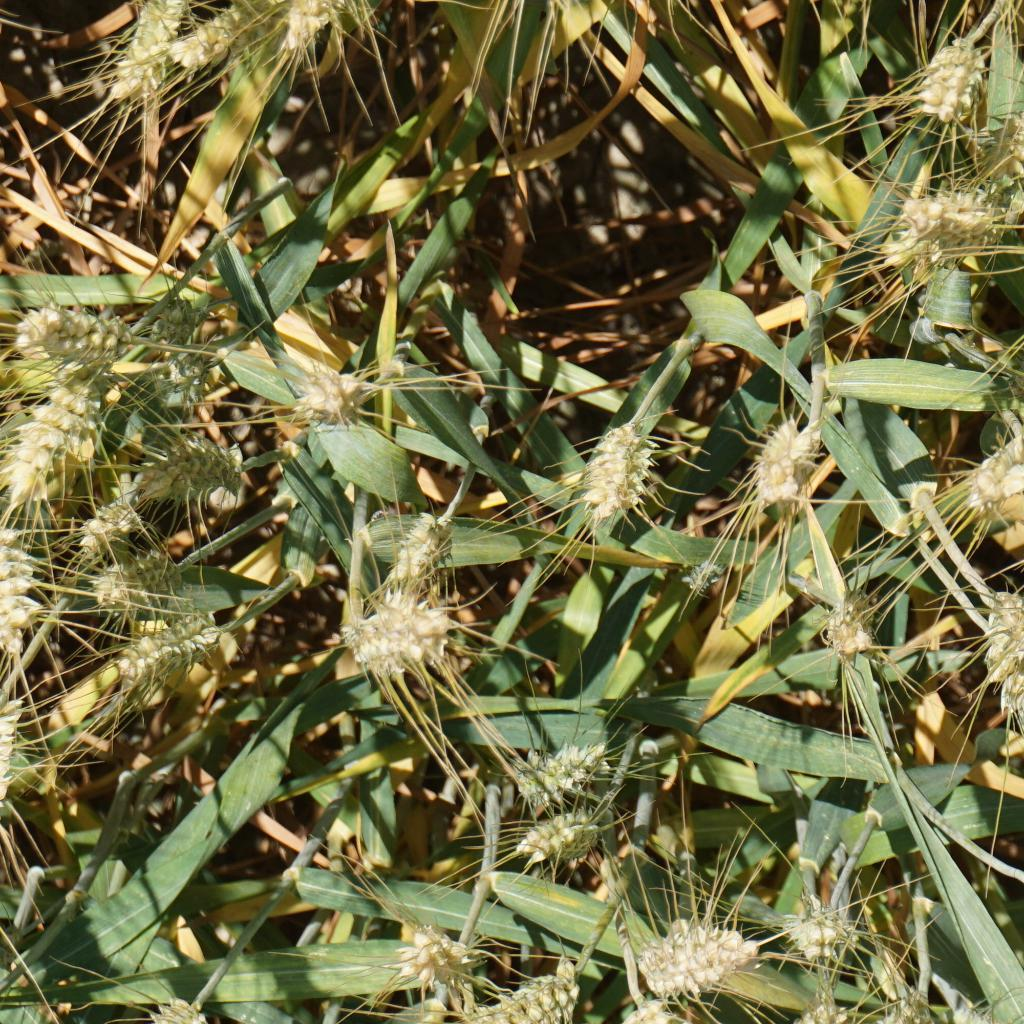0-0: (0, 360, 118, 495), (871, 180, 1012, 277), (628, 910, 771, 1003), (568, 408, 670, 529), (123, 428, 261, 517), (107, 602, 237, 691), (336, 601, 465, 687), (8, 297, 152, 370), (463, 947, 596, 1024), (745, 412, 839, 514), (188, 0, 301, 74), (914, 26, 994, 128), (105, 0, 188, 97), (499, 739, 615, 804), (288, 352, 376, 435), (506, 800, 604, 872), (373, 512, 455, 598), (386, 921, 473, 995), (816, 587, 888, 663), (62, 489, 142, 557), (80, 551, 186, 602), (954, 429, 1024, 506), (988, 641, 1024, 785), (0, 523, 39, 645), (776, 897, 854, 958), (155, 340, 223, 404), (0, 681, 26, 827), (137, 984, 226, 1024), (145, 300, 211, 351), (991, 589, 1024, 690), (285, 0, 370, 35), (1001, 66, 1024, 179), (0, 919, 32, 985), (681, 558, 722, 602), (1004, 354, 1024, 425)
